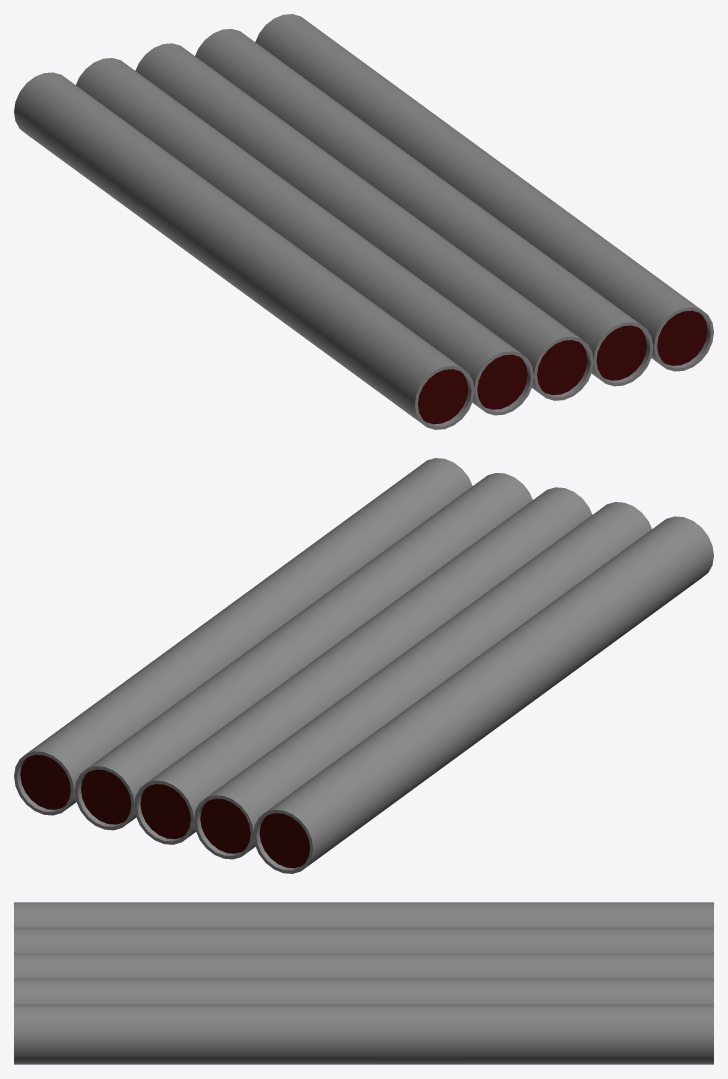
File: romancandlepack.fbx
The picture shows the model from 3 angles, top to bottom: view 1: azimuth 30°, elevation 25°; view 2: azimuth 150°, elevation 25°; view 3: azimuth 270°, elevation 25°; orthographic projection. The views are drawn at different scales.
Visible parts, largest first — view 1: Romancandlepack; view 2: Romancandlepack; view 3: Romancandlepack.
Boxes of the visible parts, x1,y1,x2,y2 form: Romancandlepack: (14,14,713,429); Romancandlepack: (14,458,713,873); Romancandlepack: (14,902,713,1064).
Size of the model in its own units: 11.77 by 2.36 by 27.31.
